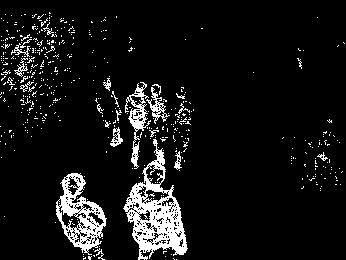person: (120, 161, 189, 259), (55, 171, 109, 260), (125, 78, 150, 171), (94, 76, 125, 150), (171, 83, 195, 172), (149, 81, 172, 166)
